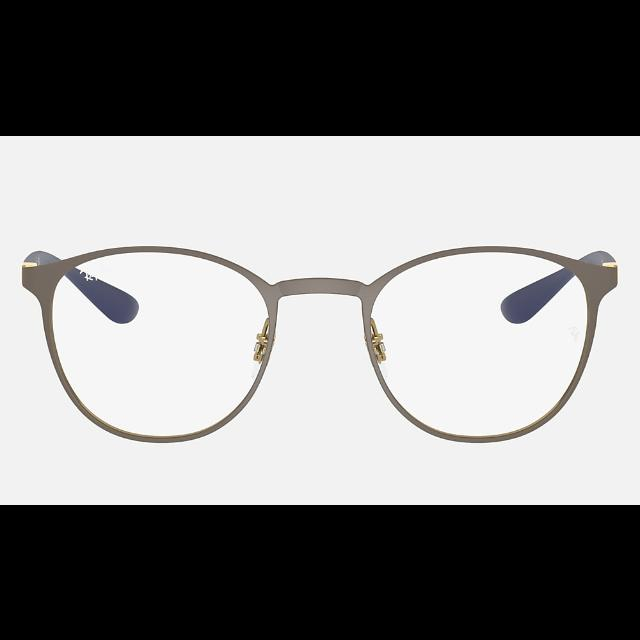glasses: (21, 243, 618, 442)
